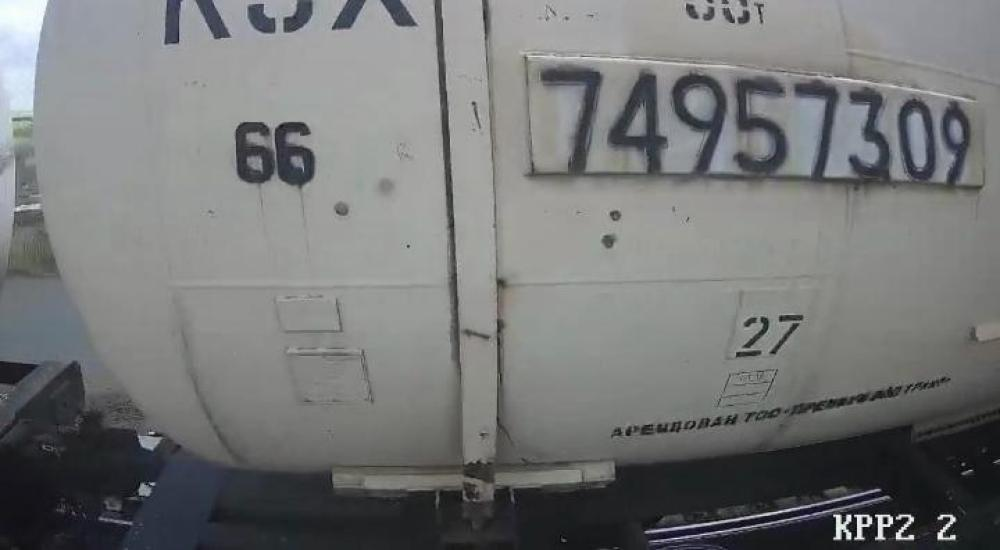Wagon-number: (534, 60, 976, 194)
